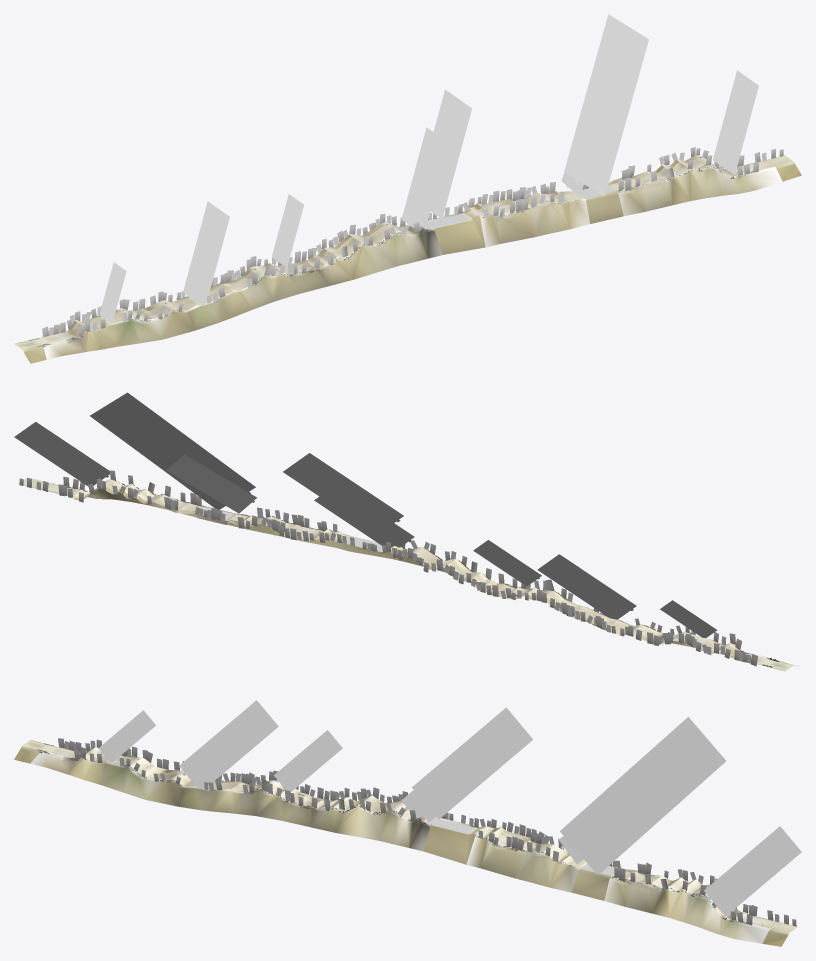
File: Beach_08.fbx
3 views of the same model, one above another, from view 1: azimuth 30°, elevation 25°; view 2: azimuth 150°, elevation 25°; view 3: azimuth 330°, elevation 25° (orthographic).
Visible parts, largest first — view 1: Light_01, Mountain_01, Tree_01, Road_01, Ground_01; view 2: Light_01, Tree_01, Ground_01, Road_01; view 3: Light_01, Mountain_01, Tree_01, Road_01, Ground_01, Sea_01.
Part boxes in pixels (<box>): Light_01: <box>99,14,758,322</box>; Mountain_01: <box>43,164,782,359</box>; Tree_01: <box>42,147,783,346</box>; Road_01: <box>14,155,801,363</box>; Ground_01: <box>15,156,793,349</box>; Light_01: <box>14,392,717,638</box>; Tree_01: <box>19,470,776,666</box>; Ground_01: <box>23,478,793,670</box>; Road_01: <box>18,478,797,671</box>; Light_01: <box>98,700,801,916</box>; Mountain_01: <box>30,751,769,943</box>; Tree_01: <box>39,738,796,926</box>; Road_01: <box>14,740,797,946</box>; Ground_01: <box>22,740,796,932</box>; Sea_01: <box>426,818,614,875</box>.
Size of the model in its own units: 71853 by 14932 by 8162.
